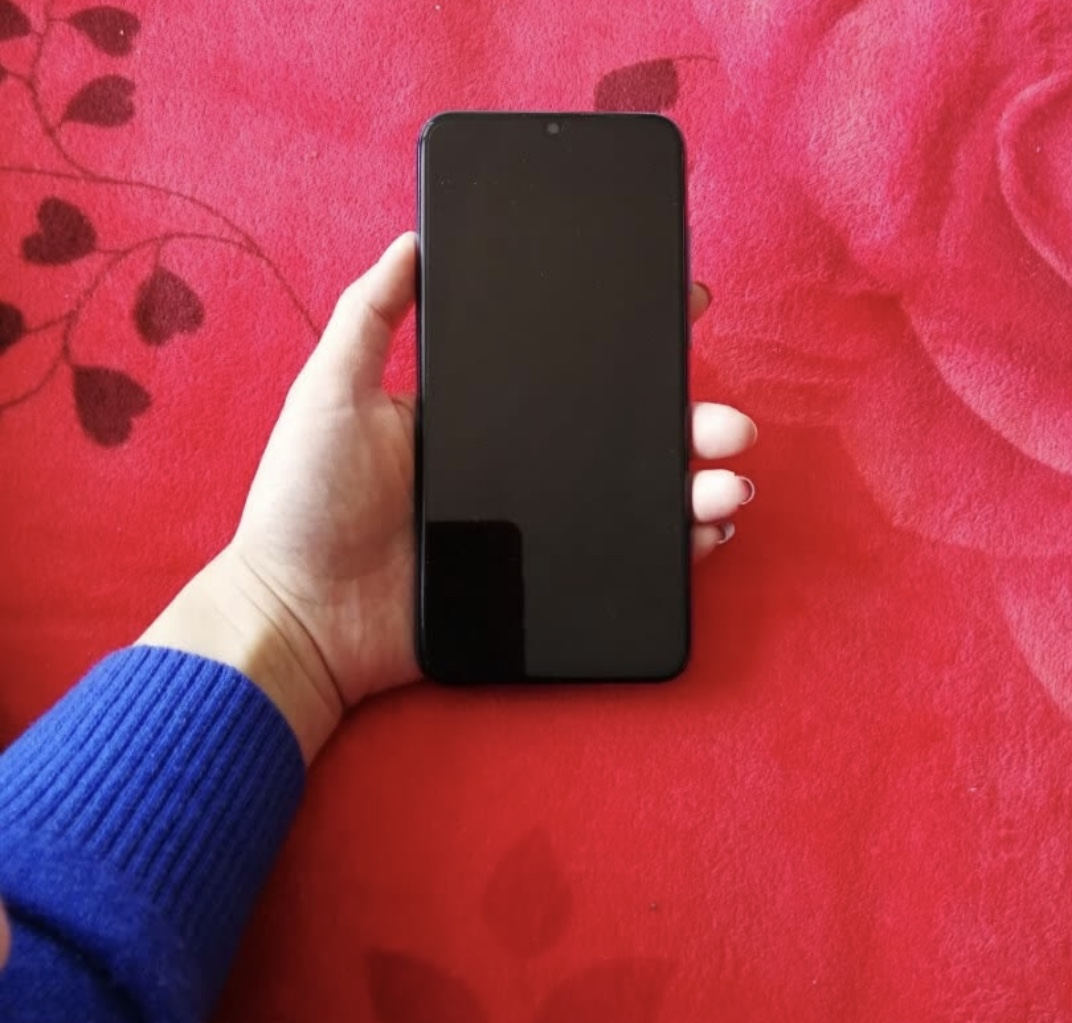mobil: (409, 98, 695, 692)
